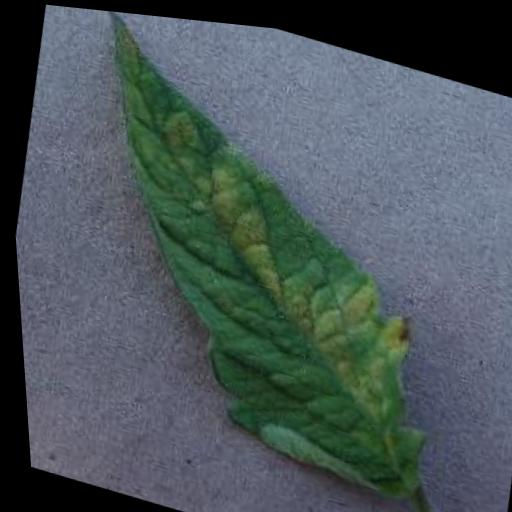Leaf Mold: (24, 2, 488, 507)
